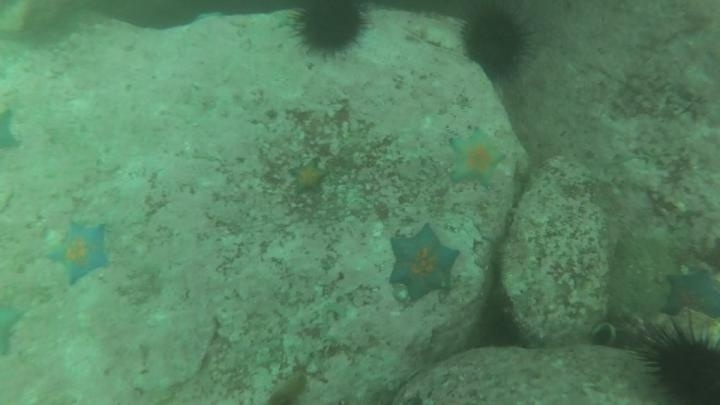echinus: (639, 322, 720, 404), (457, 6, 534, 80), (289, 1, 371, 59)
starfish: (386, 223, 462, 302), (45, 220, 113, 287), (445, 127, 509, 191), (658, 267, 720, 321), (263, 370, 311, 404), (0, 301, 28, 359), (288, 158, 329, 196), (0, 106, 24, 154)
